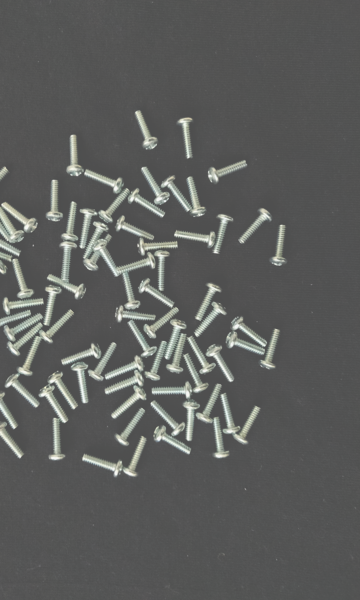shortscrew: (4, 373, 41, 411), (6, 321, 44, 358), (151, 400, 187, 437), (47, 371, 80, 410), (39, 384, 71, 424), (39, 309, 75, 344), (240, 207, 274, 244), (114, 408, 145, 448), (87, 343, 118, 383), (195, 301, 229, 337), (2, 314, 44, 343), (230, 315, 268, 347), (112, 385, 147, 419), (2, 201, 39, 233), (127, 320, 158, 358), (141, 166, 171, 205), (16, 336, 43, 379), (154, 426, 192, 456), (128, 188, 166, 218), (138, 279, 176, 309), (84, 233, 113, 272), (234, 406, 262, 446), (188, 336, 216, 376), (134, 109, 160, 151), (93, 239, 121, 278), (161, 176, 191, 212), (85, 220, 110, 263), (207, 345, 235, 383), (104, 355, 146, 380), (208, 159, 250, 184), (47, 274, 87, 300), (85, 169, 125, 195), (61, 341, 102, 366), (82, 454, 123, 479), (124, 436, 148, 478), (105, 371, 147, 395), (0, 206, 27, 243), (12, 258, 35, 300), (70, 363, 93, 405), (226, 331, 266, 355), (115, 216, 155, 240), (196, 282, 221, 320), (166, 333, 189, 374), (0, 422, 25, 459), (260, 329, 282, 371), (213, 213, 235, 255), (165, 318, 187, 360), (59, 202, 81, 242), (269, 224, 289, 267), (147, 342, 169, 381), (58, 241, 78, 283), (174, 229, 216, 249), (221, 393, 241, 435), (118, 253, 158, 274), (176, 117, 195, 161), (187, 177, 207, 218), (2, 296, 44, 315), (43, 284, 62, 326), (46, 179, 64, 222), (80, 207, 98, 250), (0, 390, 19, 430), (138, 237, 178, 256), (122, 271, 141, 311), (183, 399, 201, 441), (67, 135, 85, 177), (212, 418, 230, 460), (100, 194, 126, 223), (115, 306, 155, 324), (0, 310, 31, 333), (49, 418, 65, 462), (0, 228, 22, 257), (155, 250, 170, 292), (0, 205, 13, 242), (0, 166, 10, 202), (0, 239, 13, 262), (0, 260, 8, 292)
